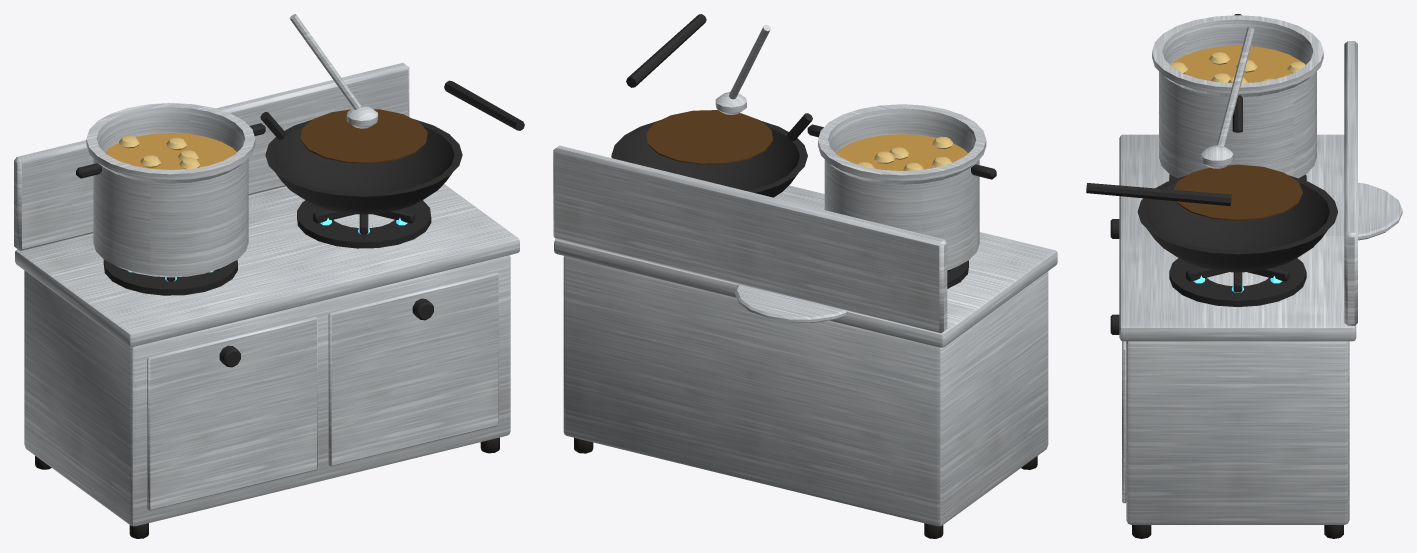
Rendered from stockpot_wok.glb.
3 renders of one model, left to right at view 1: azimuth 30°, elevation 25°; view 2: azimuth 150°, elevation 25°; view 3: azimuth 270°, elevation 25°, orthographic.
Visible parts, largest first — view 1: stockpot_wok__steel_brushed, stockpot_wok__iron_dark, stockpot_wok__wok_oil, stockpot_wok__broth, stockpot_wok__broth_bubble, stockpot_wok__rubber_black; view 2: stockpot_wok__steel_brushed, stockpot_wok__iron_dark, stockpot_wok__wok_oil, stockpot_wok__broth, stockpot_wok__broth_bubble, stockpot_wok__rubber_black; view 3: stockpot_wok__steel_brushed, stockpot_wok__iron_dark, stockpot_wok__wok_oil, stockpot_wok__broth, stockpot_wok__broth_bubble, stockpot_wok__rubber_black.
Boxes of the visible parts, x1,y1,x2,y2 form: stockpot_wok__steel_brushed: [14, 14, 519, 526]; stockpot_wok__iron_dark: [76, 80, 524, 367]; stockpot_wok__wok_oil: [300, 109, 427, 163]; stockpot_wok__broth: [105, 133, 236, 169]; stockpot_wok__broth_bubble: [119, 136, 200, 169]; stockpot_wok__rubber_black: [35, 437, 499, 538]; stockpot_wok__steel_brushed: [553, 24, 1057, 526]; stockpot_wok__iron_dark: [611, 14, 996, 288]; stockpot_wok__wok_oil: [646, 110, 772, 164]; stockpot_wok__broth: [836, 134, 967, 170]; stockpot_wok__broth_bubble: [857, 136, 953, 170]; stockpot_wok__rubber_black: [574, 438, 1037, 538]; stockpot_wok__steel_brushed: [1119, 15, 1402, 524]; stockpot_wok__iron_dark: [1086, 14, 1337, 334]; stockpot_wok__wok_oil: [1174, 164, 1302, 220]; stockpot_wok__broth: [1173, 45, 1301, 82]; stockpot_wok__broth_bubble: [1170, 52, 1305, 83]; stockpot_wok__rubber_black: [1132, 525, 1343, 538].
Size of the model in its own units: 1.34 by 1.41 by 0.9215.
Materials: 7 (1 with a texture image).
